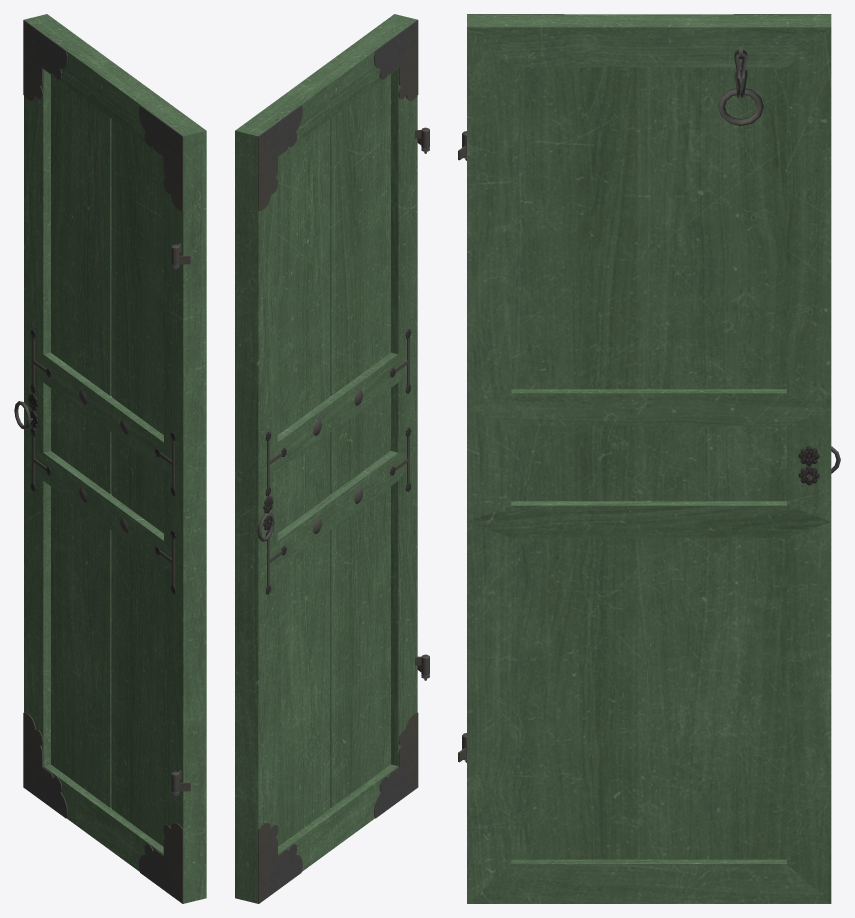
Rendered from SM_Door05A.fbx.
3 views of the same model, side by side, from view 1: azimuth 30°, elevation 25°; view 2: azimuth 150°, elevation 25°; view 3: azimuth 270°, elevation 25° (orthographic). The views are drawn at different scales.
Visible parts, largest first — view 1: SM_Door05A; view 2: SM_Door05A; view 3: SM_Door05A.
Boxes of the visible parts, x1=… form: SM_Door05A: x1=14, y1=14, x2=206, y2=903; SM_Door05A: x1=235, y1=14, x2=429, y2=903; SM_Door05A: x1=458, y1=14, x2=840, y2=903.
Size of the model in its own units: 11.72 by 67.11 by 170.
